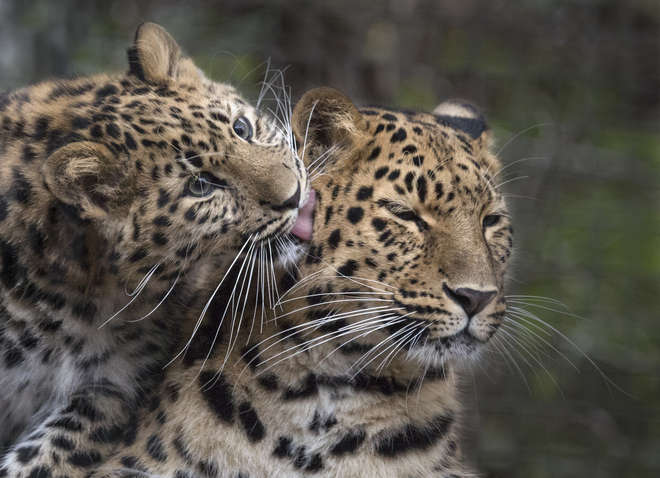amur_leopard: (290, 52, 535, 395), (42, 65, 319, 273)
